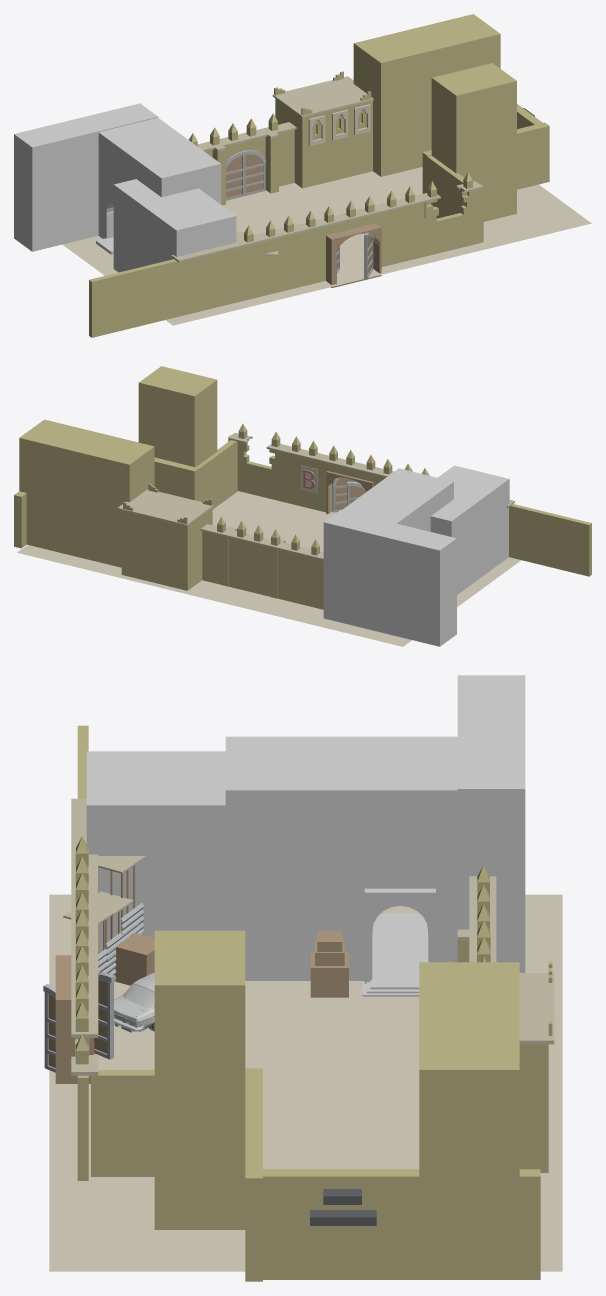
File: dust2.glb
The picture shows the model from 3 angles, top to bottom: view 1: azimuth 30°, elevation 25°; view 2: azimuth 150°, elevation 25°; view 3: azimuth 270°, elevation 25°; orthographic projection. The views are drawn at different scales.
Visible parts, largest first — view 1: Mesh_Mesh_head_geo.001_lambert2SG.001; view 2: Mesh_Mesh_head_geo.001_lambert2SG.001; view 3: Mesh_Mesh_head_geo.001_lambert2SG.001.
Boxes of the visible parts, box(x1,y1,x2,y2) form: Mesh_Mesh_head_geo.001_lambert2SG.001: box(14, 14, 591, 337); Mesh_Mesh_head_geo.001_lambert2SG.001: box(14, 366, 591, 646); Mesh_Mesh_head_geo.001_lambert2SG.001: box(43, 675, 562, 1281).
Size of the model in its own units: 562 by 143 by 269.
